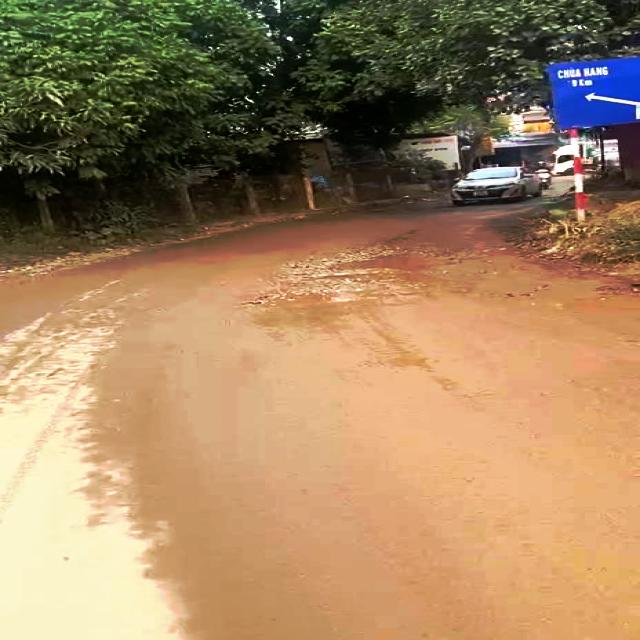pothole: (296, 250, 452, 284), (251, 282, 430, 310)
